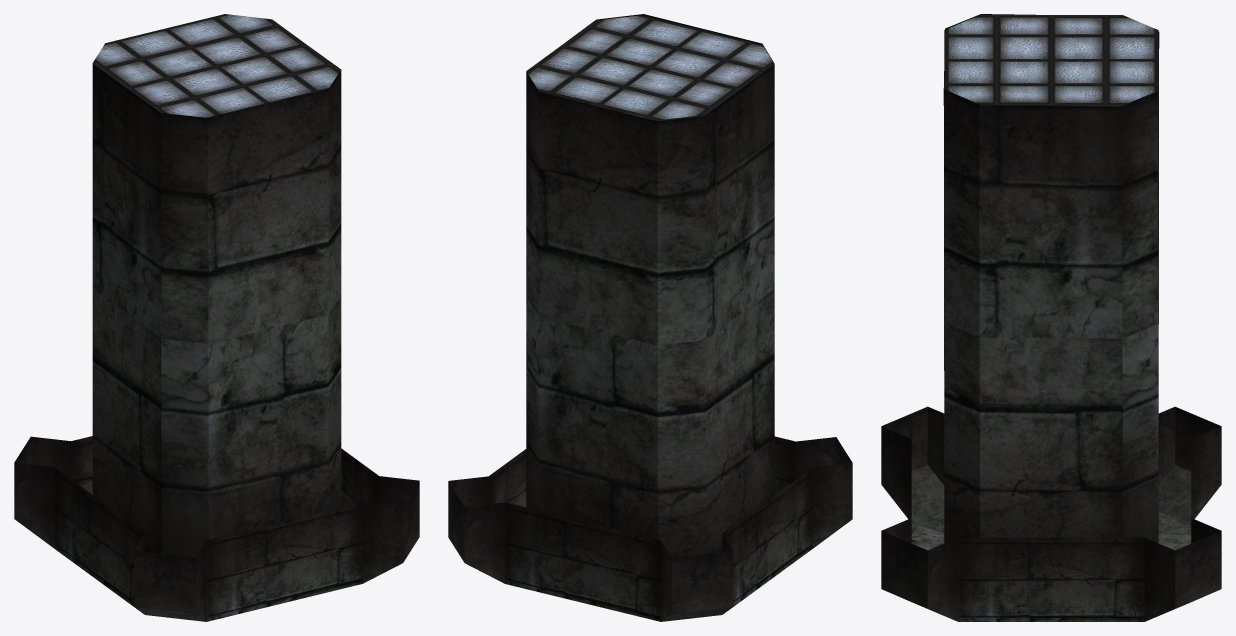
Rendered from window_high.dae.
The picture shows the model from 3 angles, left to right: view 1: azimuth 30°, elevation 25°; view 2: azimuth 150°, elevation 25°; view 3: azimuth 270°, elevation 25°; orthographic projection. The views are drawn at different scales.
Parts seen in each view (by area): view 1: polySurface4, polySurface5; view 2: polySurface4, polySurface5; view 3: polySurface4, polySurface5.
Part boxes in pixels (x1,y1,x2,y2): polySurface4: (14, 49, 419, 621); polySurface5: (93, 14, 340, 118); polySurface4: (448, 14, 852, 621); polySurface5: (526, 15, 773, 119); polySurface4: (881, 14, 1221, 621); polySurface5: (944, 15, 1158, 105).
Size of the model in its own units: 3.66 by 5.97 by 3.66.
